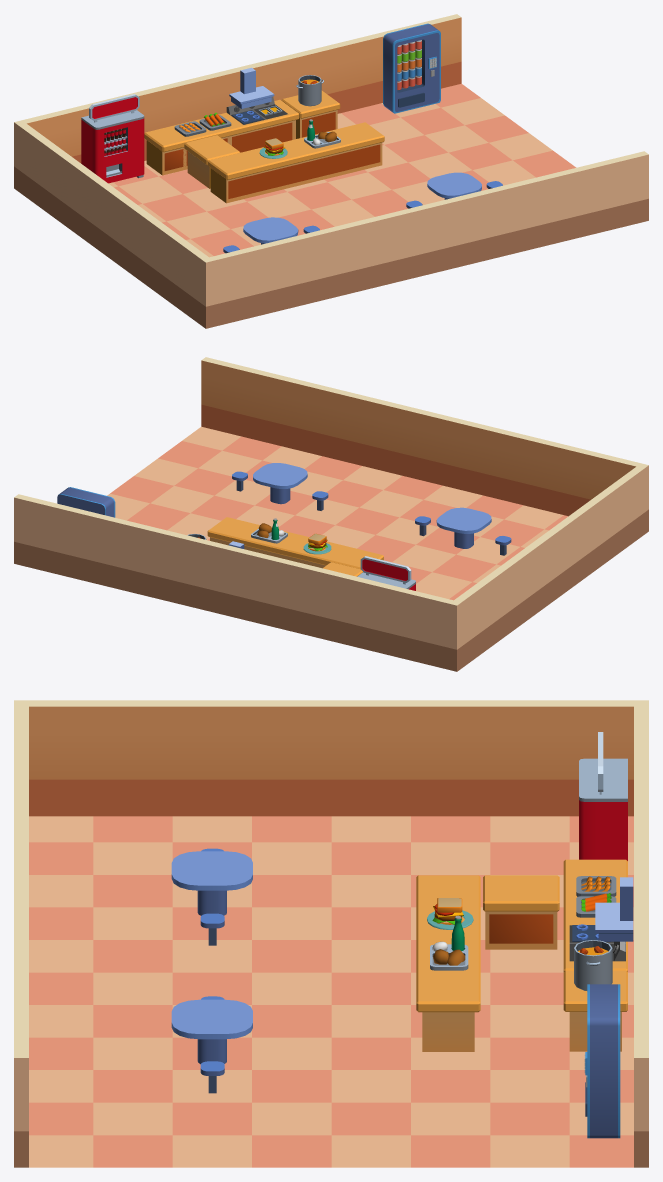
Rendered from Canteen.fbx.
The picture shows the model from 3 angles, top to bottom: view 1: azimuth 30°, elevation 25°; view 2: azimuth 150°, elevation 25°; view 3: azimuth 270°, elevation 25°; orthographic projection. The views are drawn at different scales.
Visible parts, largest first — view 1: wall24, Floor, wall17, wall23, kitchen4, kitchen, vendingmachine2, vendingmachine, kitchen1, kitchen2, dinner_table, dinner_table1 (+1 smaller); view 2: Floor, wall23, wall24, wall17, kitchen4, dinner_table1, dinner_table, vendingmachine2, vendingmachine, S4_food; view 3: Floor, wall17, kitchen4, kitchen, wall23, wall24, kitchen2, vendingmachine, vendingmachine2, dinner_table, dinner_table1, S4_food (+2 smaller).
Part boxes in pixels (box(x1,y1,x2,y2)): wall24: box(209, 151, 648, 326); Floor: box(108, 83, 576, 257); wall17: box(14, 120, 213, 328); wall23: box(22, 14, 461, 163); kitchen4: box(208, 122, 384, 203); kitchen: box(166, 67, 340, 170); vendingmachine2: box(81, 94, 144, 183); vendingmachine: box(383, 23, 440, 113); kitchen1: box(144, 124, 186, 175); kitchen2: box(184, 135, 240, 188); dinner_table: box(243, 217, 298, 244); dinner_table1: box(427, 172, 481, 199); Floor: box(107, 426, 567, 600); wall23: box(14, 494, 453, 669); wall24: box(201, 357, 640, 516); wall17: box(449, 463, 648, 671); kitchen4: box(207, 517, 383, 569); dinner_table1: box(253, 463, 307, 504); dinner_table: box(436, 507, 491, 548); vendingmachine2: box(357, 556, 415, 590); vendingmachine: box(57, 487, 115, 517); S4_food: box(251, 518, 287, 543); Floor: box(29, 816, 633, 1167); wall17: box(14, 700, 648, 816); kitchen4: box(416, 875, 480, 1051); kitchen: box(563, 875, 633, 1051); wall23: box(634, 706, 648, 1167); wall24: box(14, 706, 28, 1167); kitchen2: box(483, 875, 559, 949); vendingmachine: box(584, 984, 620, 1138); vendingmachine2: box(579, 732, 627, 860); dinner_table: box(171, 851, 252, 915); dinner_table1: box(171, 999, 252, 1064); S4_food: box(430, 915, 468, 970).
Bounding box in the file's own units: 1400 × 239 × 1050.
